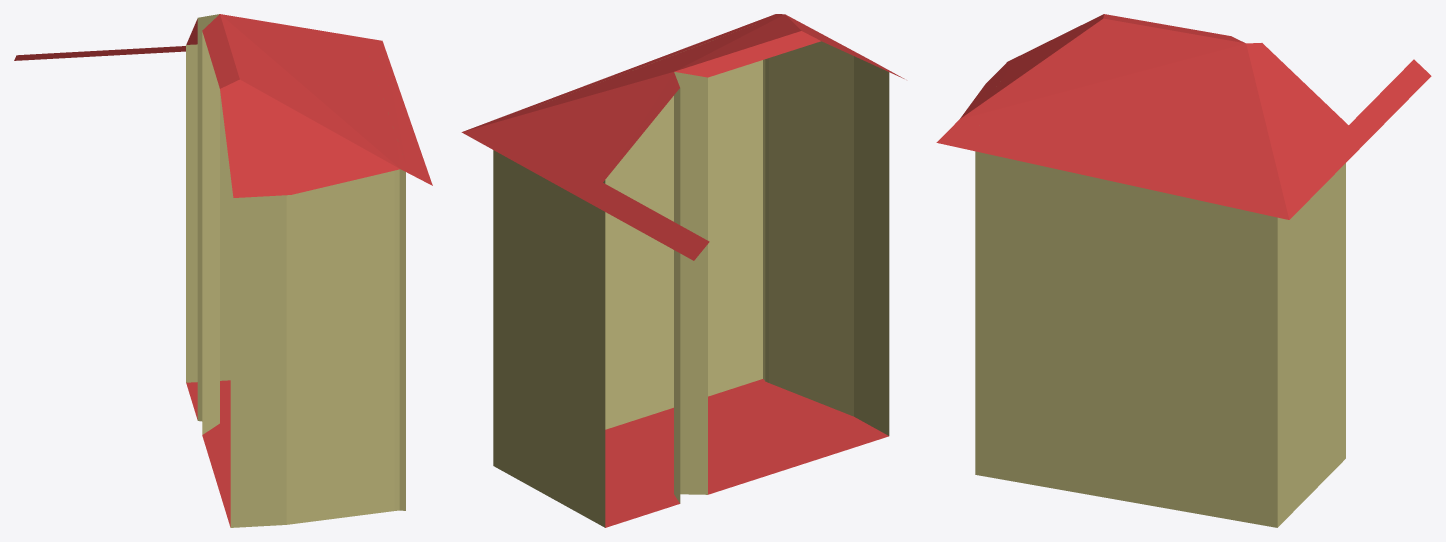
The picture shows the model from 3 angles, left to right: view 1: azimuth 30°, elevation 25°; view 2: azimuth 150°, elevation 25°; view 3: azimuth 270°, elevation 25°; orthographic projection. The views are drawn at different scales.
Bounding box in the file's own units: 7.91 × 11.24 × 10.2.
